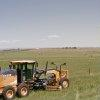Tractor: (4, 50, 70, 100)
